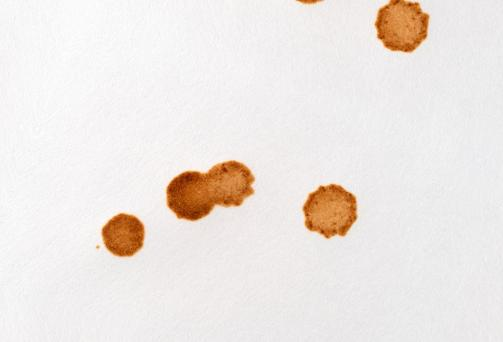stain: (164, 158, 260, 226), (302, 183, 366, 246), (373, 1, 434, 58), (101, 208, 147, 263)
